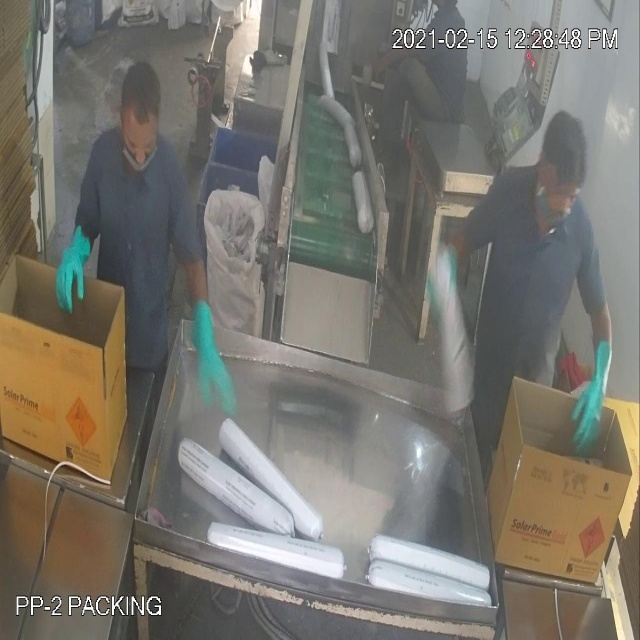Guantes: (182, 268, 245, 435), (562, 316, 622, 465), (38, 215, 108, 332)
Sin_guantes: (365, 29, 444, 87)
